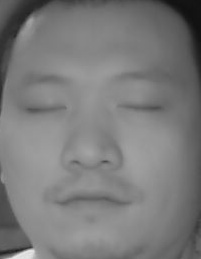blink: (26, 96, 68, 120), (118, 98, 161, 119)
mouth: (59, 185, 128, 221)
